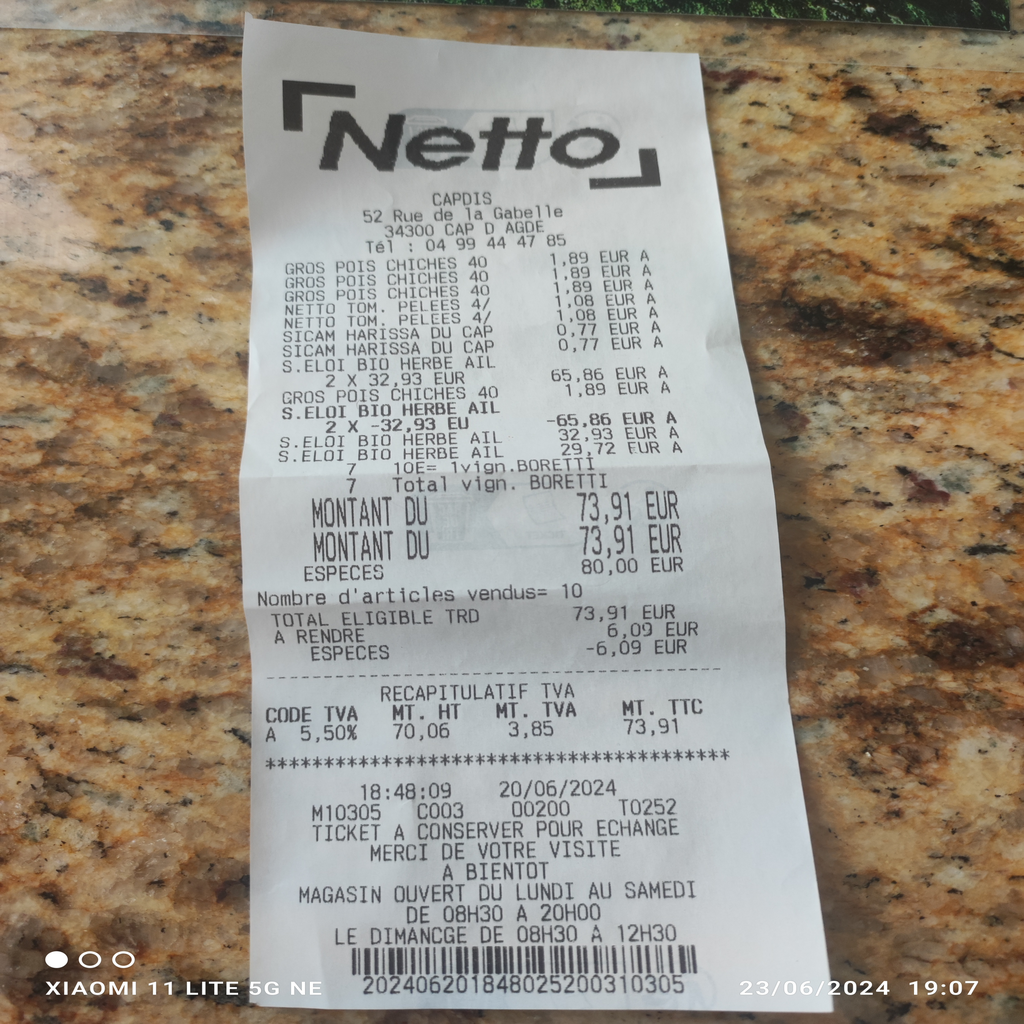recipt: (239, 13, 833, 1014)
